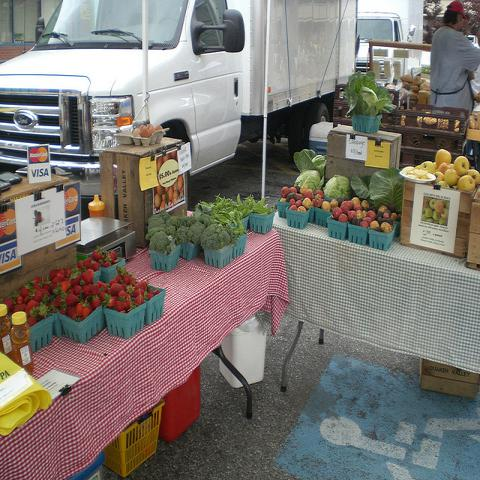truck: (0, 0, 359, 175), (358, 5, 406, 69)
